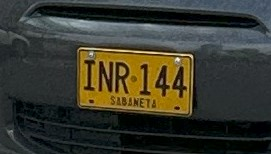number plate: (77, 47, 193, 116)
